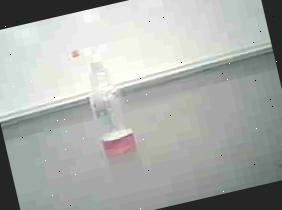hazard: (61, 31, 150, 168)
